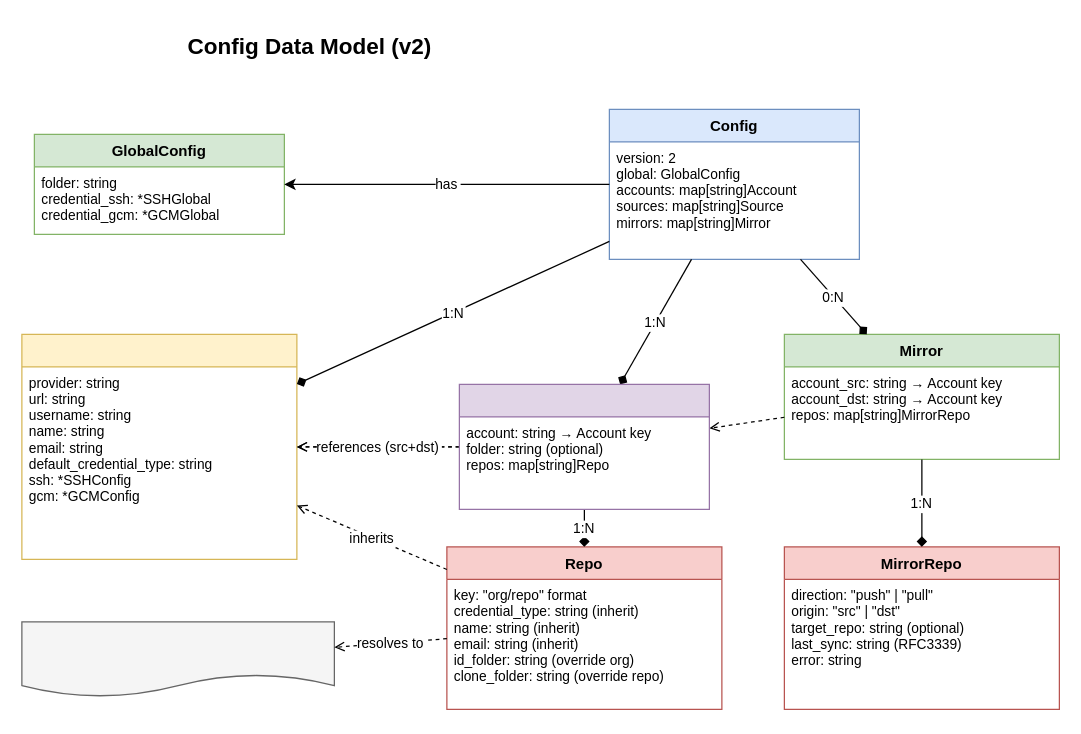
This 1081x734 diagram has some shape labels left out. Here are the shapes that lost their labels. From the top down, the box of each, then its label:
(21, 333, 297, 559): Account (WHO)
(458, 383, 709, 509): Source (WHAT)
(21, 621, 334, 697): Clone Path global.folder / source / org / repo
